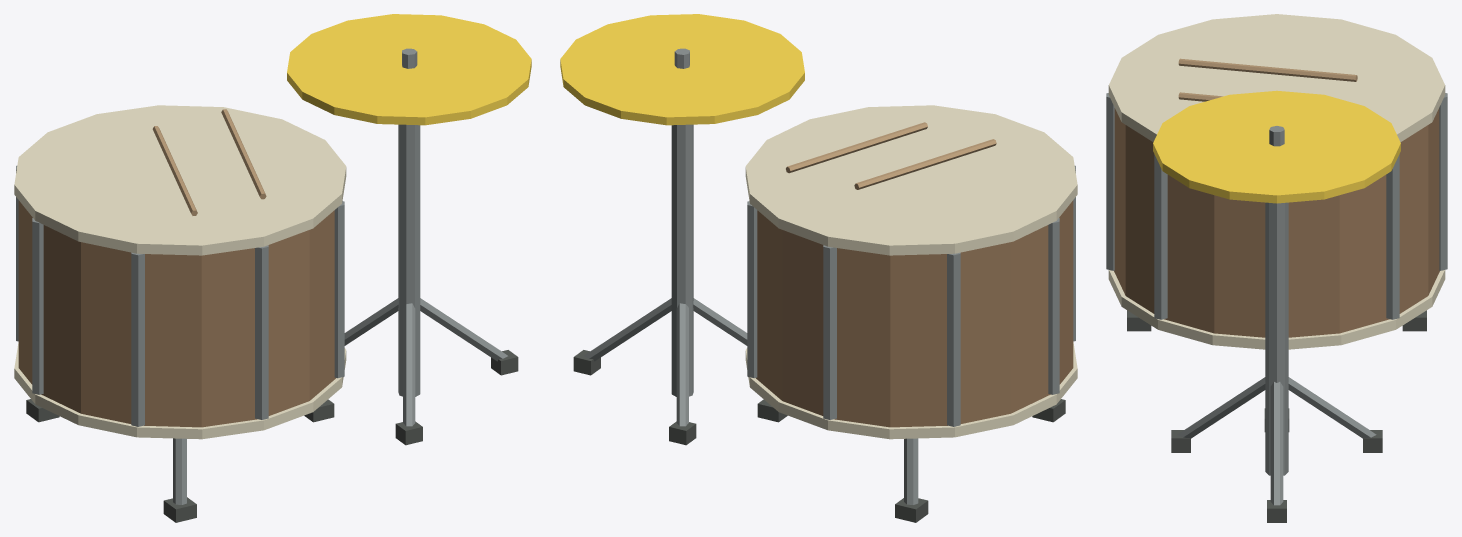
File: Drum_And_Cymbal.fbx
3 renders of one model, left to right at view 1: azimuth 30°, elevation 25°; view 2: azimuth 150°, elevation 25°; view 3: azimuth 270°, elevation 25°, orthographic.
Parts seen in each view (by area): view 1: Drum_And_Cymbal_Geometry; view 2: Drum_And_Cymbal_Geometry; view 3: Drum_And_Cymbal_Geometry.
Boxes of the visible parts, box(x1,y1,x2,y2) form: Drum_And_Cymbal_Geometry: box(14, 14, 531, 522); Drum_And_Cymbal_Geometry: box(560, 14, 1077, 522); Drum_And_Cymbal_Geometry: box(1106, 14, 1447, 522).
Size of the model in its own units: 127 by 85.5 by 77.12.
